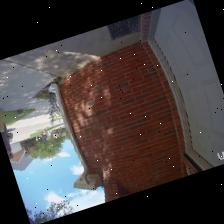person: (1, 122, 13, 158)
